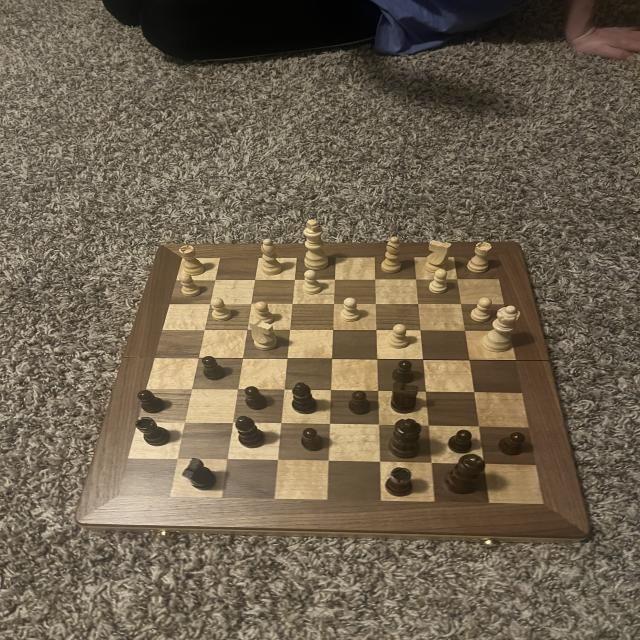bishop: (233, 415, 267, 449), (291, 382, 320, 415)
black-bishop: (443, 452, 488, 496)
black-king: (180, 457, 220, 492), (389, 380, 422, 415)
black-knight: (298, 426, 328, 454), (495, 432, 529, 456), (138, 388, 167, 416), (242, 386, 272, 412), (446, 428, 474, 454), (347, 388, 372, 417), (200, 354, 226, 381), (391, 359, 417, 383)
black-pawn: (385, 418, 425, 459)
black-queen: (134, 417, 172, 448), (384, 466, 416, 496)
black-rook: (257, 237, 284, 277), (380, 235, 406, 276)
white-bishop: (300, 217, 334, 272)
white-king: (423, 239, 454, 277), (248, 318, 279, 352)
white-knight: (337, 296, 365, 324), (386, 323, 413, 350), (250, 300, 278, 326), (468, 296, 494, 324), (209, 297, 236, 323), (300, 269, 325, 296), (427, 268, 450, 296), (178, 273, 202, 297)
white-pawn: (480, 304, 522, 355)
white-queen: (466, 241, 498, 274), (178, 244, 208, 278)
